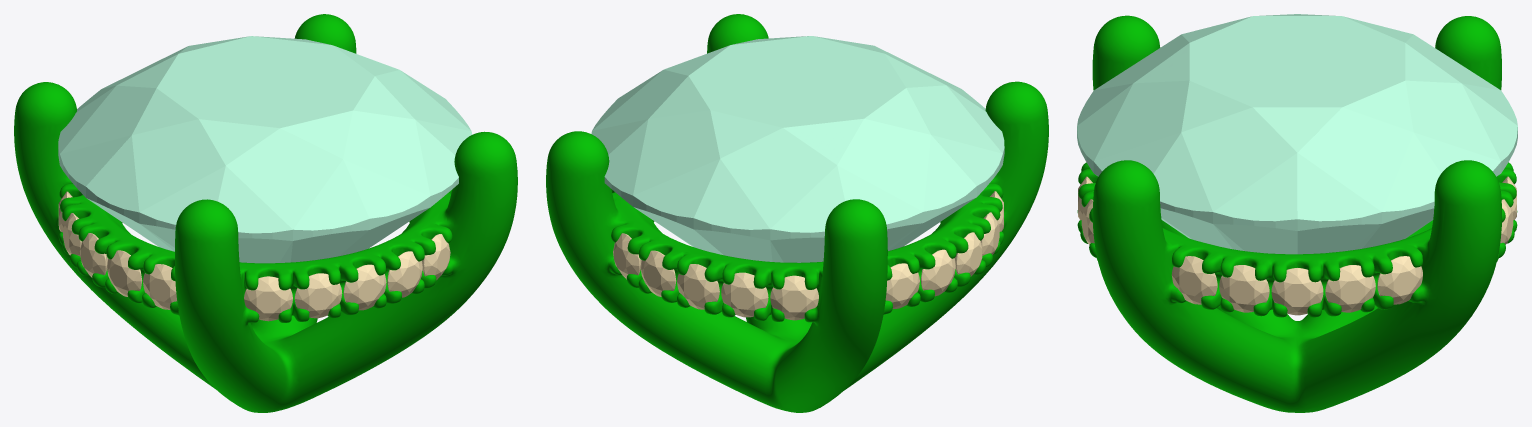
3 views of the same model, side by side, from view 1: azimuth 30°, elevation 25°; view 2: azimuth 150°, elevation 25°; view 3: azimuth 270°, elevation 25° (orthographic). The views are drawn at different scales.
Visible parts, largest first — view 1: CS_Diamond, Metal01, Diamond_Round, Diamond_Round.001, Diamond_Round.002, Diamond_Round.015, Diamond_Round.003, Diamond_Round.016, Diamond_Round.004, Diamond_Round.017, Diamond_Round.018; view 2: CS_Diamond, Metal01, Diamond_Round.010, Diamond_Round.011, Diamond_Round.012, Diamond_Round.019, Diamond_Round.013, Diamond_Round.018, Diamond_Round.014, Diamond_Round.017, Diamond_Round.016; view 3: CS_Diamond, Metal01, Diamond_Round.007, Diamond_Round.008, Diamond_Round.006, Diamond_Round.005, Diamond_Round.009, Diamond_Round.013, Diamond_Round.003.
Boxes of the visible parts, x1,y1,x2,y2 form: CS_Diamond: [58, 36, 472, 263]; Metal01: [14, 14, 517, 412]; Diamond_Round: [244, 276, 292, 321]; Diamond_Round.001: [294, 273, 342, 318]; Diamond_Round.002: [343, 264, 386, 310]; Diamond_Round.015: [143, 264, 176, 309]; Diamond_Round.003: [387, 251, 422, 297]; Diamond_Round.016: [107, 250, 142, 296]; Diamond_Round.004: [422, 234, 450, 280]; Diamond_Round.017: [80, 233, 108, 277]; Diamond_Round.018: [63, 213, 81, 256]; CS_Diamond: [591, 36, 1004, 262]; Metal01: [546, 14, 1048, 412]; Diamond_Round.010: [770, 275, 818, 320]; Diamond_Round.011: [721, 272, 768, 317]; Diamond_Round.012: [677, 264, 719, 309]; Diamond_Round.019: [885, 263, 919, 308]; Diamond_Round.013: [640, 250, 676, 296]; Diamond_Round.018: [920, 249, 955, 296]; Diamond_Round.014: [613, 233, 641, 279]; Diamond_Round.017: [954, 232, 982, 276]; Diamond_Round.016: [981, 212, 999, 255]; CS_Diamond: [1077, 14, 1517, 254]; Metal01: [1077, 15, 1517, 412]; Diamond_Round.007: [1271, 268, 1323, 315]; Diamond_Round.008: [1219, 265, 1269, 312]; Diamond_Round.006: [1325, 265, 1375, 312]; Diamond_Round.005: [1377, 256, 1422, 304]; Diamond_Round.009: [1171, 256, 1217, 304]; Diamond_Round.013: [1500, 199, 1513, 244]; Diamond_Round.003: [1081, 199, 1094, 244].
Bounding box in the file's own units: 9.36 × 8.02 × 9.35.
